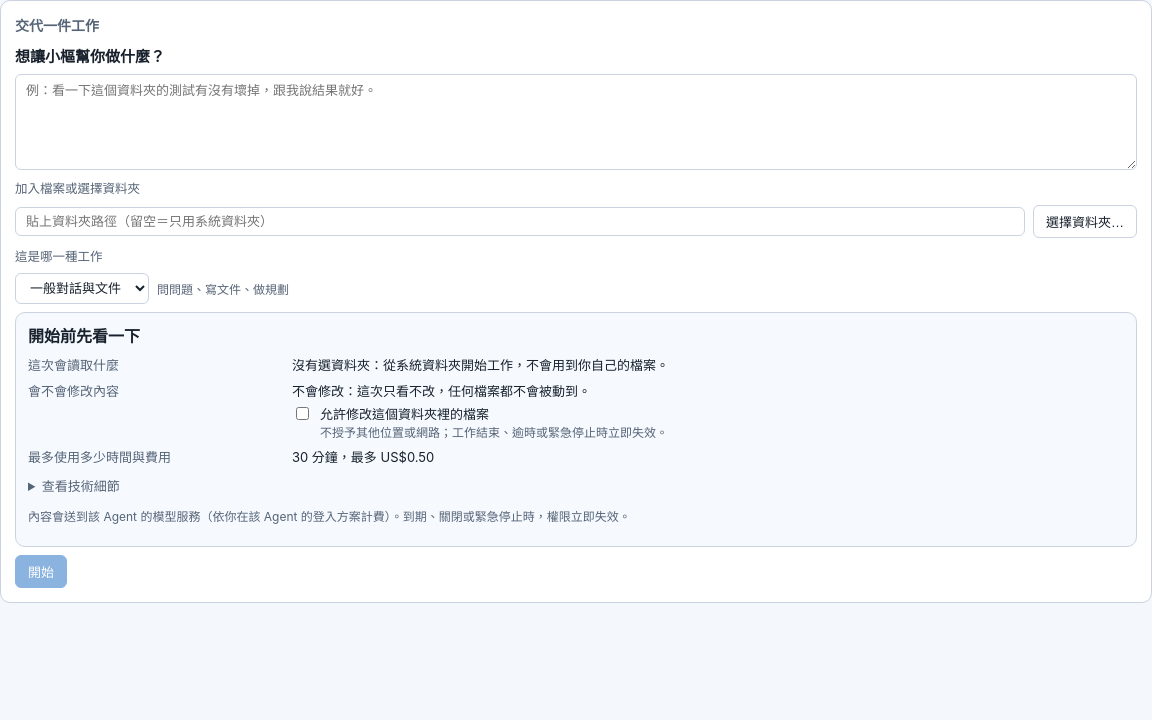
Test case: 桌面版原生資料夾選擇器 › 打不開就照實說原因，不冒充「沒有資料夾選擇器」
Click the button "選擇資料夾…" at point(1085, 222), box top-left (1033, 205), bottom-right (1137, 238)
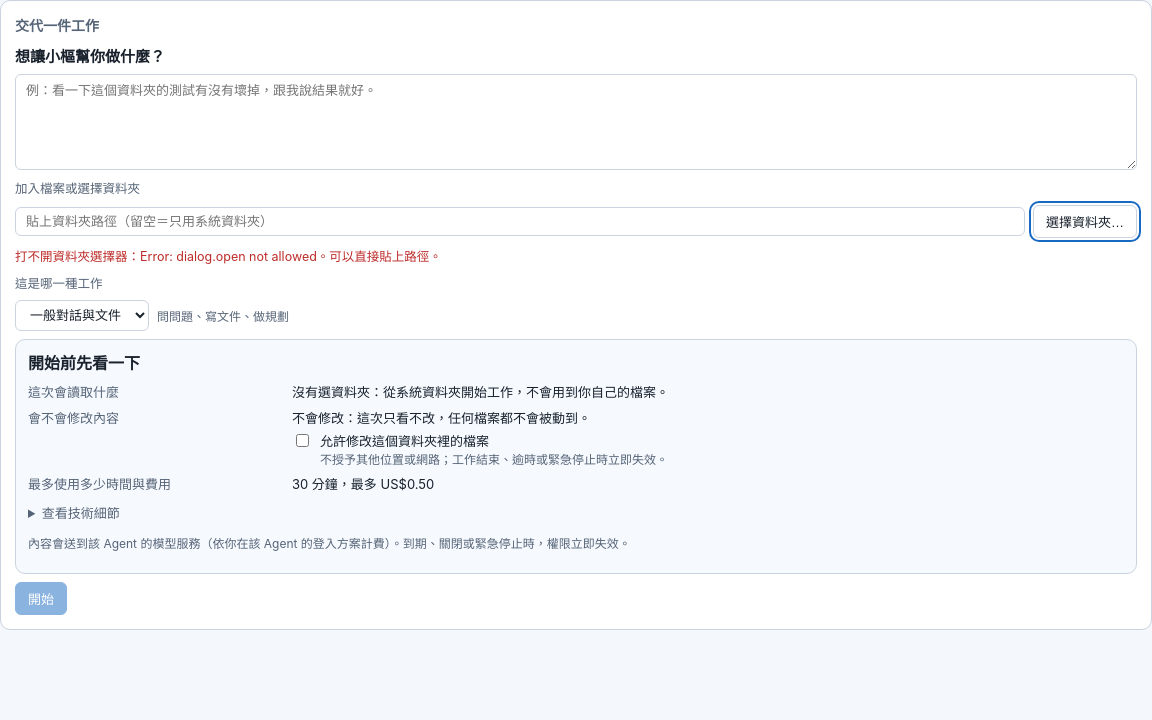
Check: the message shows "dialog.open not allowed", box top-left (140, 249), bottom-right (317, 264)
Check: the message shows "可以直接貼上路徑", box top-left (317, 249), bottom-right (442, 264)
